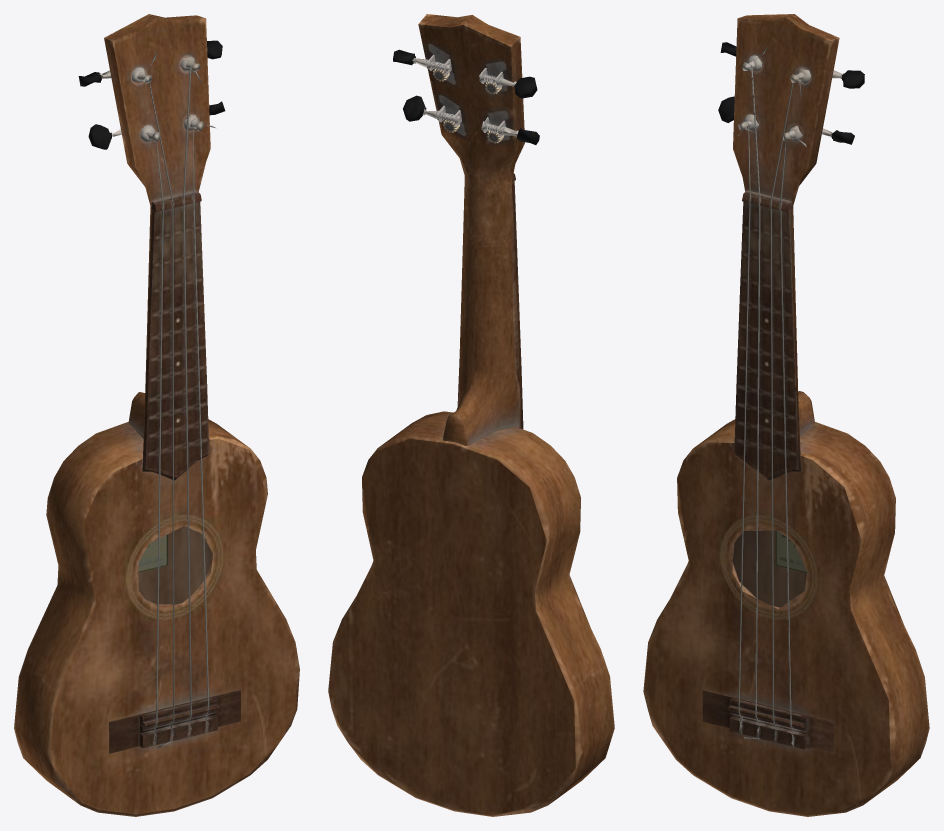
The model's file is Ukulele_01.glb.
3 renders of one model, left to right at view 1: azimuth 30°, elevation 25°; view 2: azimuth 150°, elevation 25°; view 3: azimuth 330°, elevation 25°, orthographic.
Visible parts, largest first — view 1: Ukulele_01; view 2: Ukulele_01; view 3: Ukulele_01.
Part boxes in pixels (x1,y1,x2,y2): Ukulele_01: [14, 14, 299, 816]; Ukulele_01: [328, 14, 614, 816]; Ukulele_01: [643, 14, 929, 816].
Size of the model in its own units: 0.1779 by 0.527 by 0.0508.
1 material, 1 textured.
